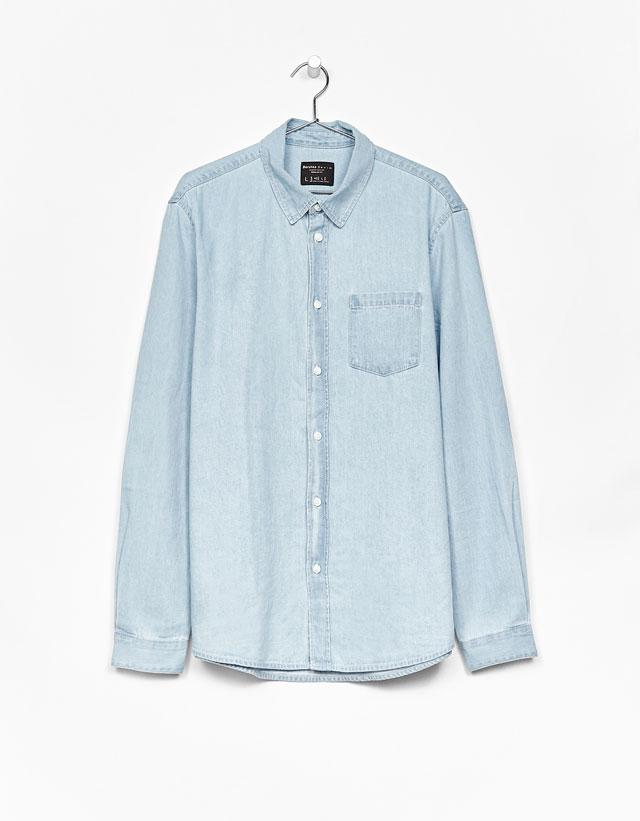teeshirt: (105, 111, 552, 687)
